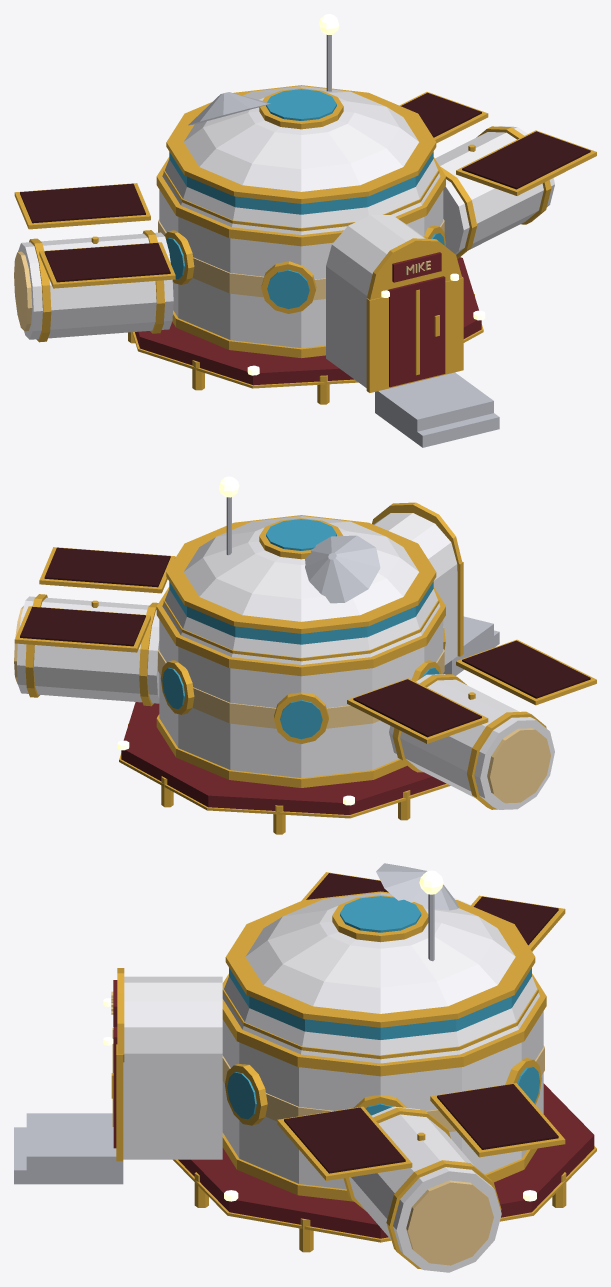
Rendered from casa-do-mike-n3.glb.
3 views of the same model, one above another, from view 1: azimuth 30°, elevation 25°; view 2: azimuth 150°, elevation 25°; view 3: azimuth 270°, elevation 25° (orthographic). The views are drawn at different scales.
Parts seen in each view (by area): view 1: casa-do-mike-n3; view 2: casa-do-mike-n3; view 3: casa-do-mike-n3.
Part boxes in pixels (bbox=[...]): casa-do-mike-n3: bbox=[14, 14, 596, 447]; casa-do-mike-n3: bbox=[14, 476, 596, 834]; casa-do-mike-n3: bbox=[14, 863, 596, 1272].
Bounding box in the file's own units: 21.21 × 10.75 × 17.17.
